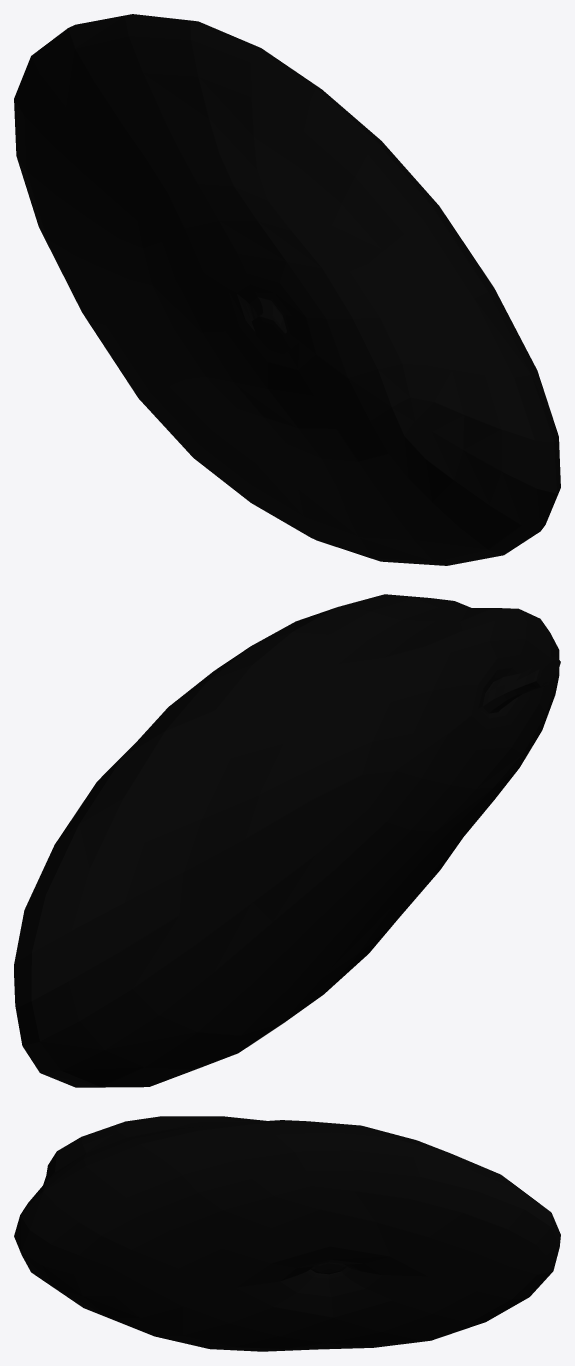
Rendered from pear_apple_4.glb.
3 views of the same model, one above another, from view 1: azimuth 30°, elevation 25°; view 2: azimuth 150°, elevation 25°; view 3: azimuth 270°, elevation 25° (orthographic). The views are drawn at different scales.
Parts seen in each view (by area): view 1: pear_apple_4; view 2: pear_apple_4; view 3: pear_apple_4.
Boxes of the visible parts, x1,y1,x2,y2 form: pear_apple_4: (14, 14, 560, 565); pear_apple_4: (14, 594, 560, 1087); pear_apple_4: (14, 1116, 560, 1351).
Bounding box in the file's own units: 0.0498 × 0.0777 × 0.1714.
Materials: 1 (1 with a texture image).
